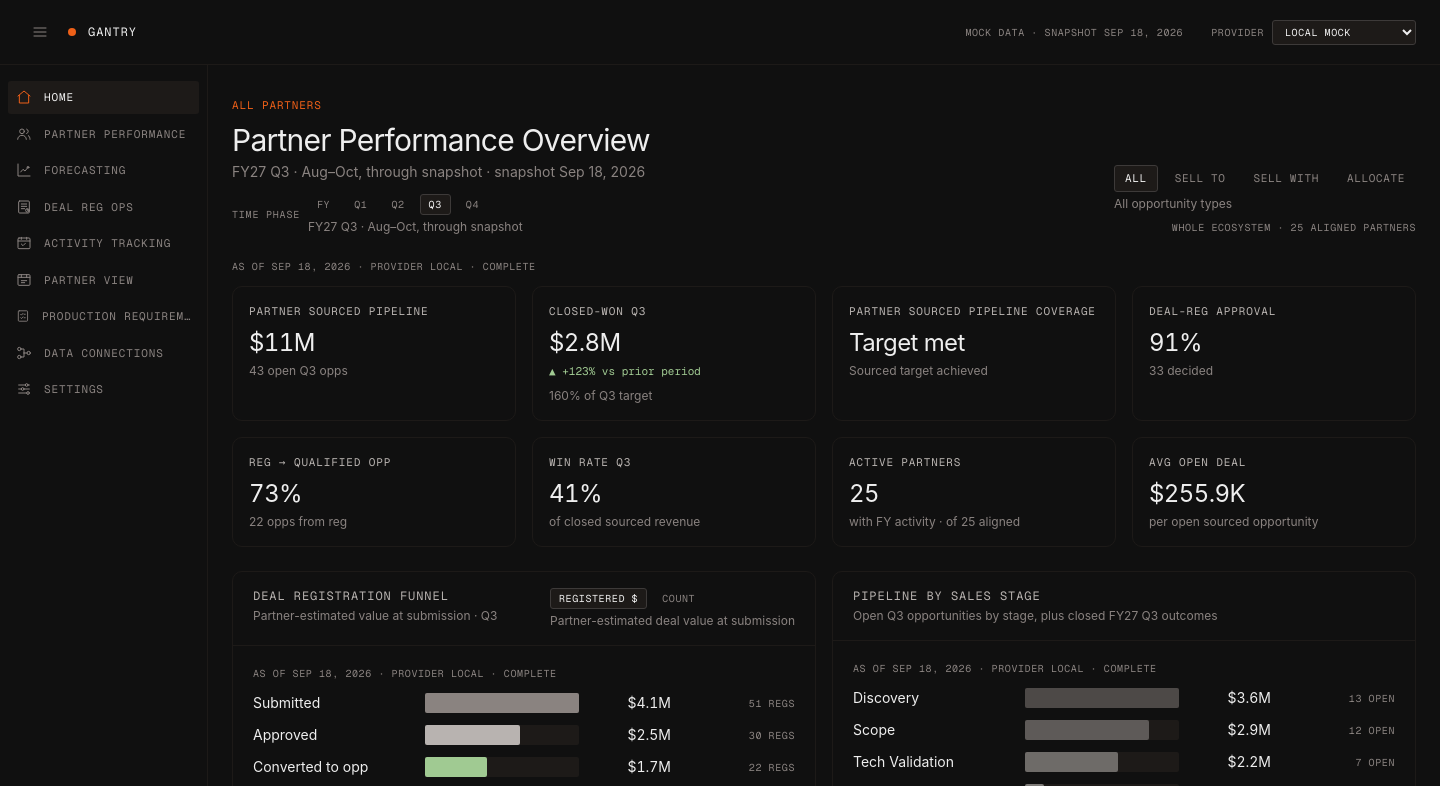
App › swaps the provider behind the seam from the header
This screenshot has width=1440, height=786.
Check: the heading "Partner Performance Overview" is shown, box [232,122,650,158]
Check: the text "round trips with a 15% simulated failure rate" is not shown
Select "Simulated remote" in the dropdown named "Data provider" at (1344,32), box [1272,20,1416,44]
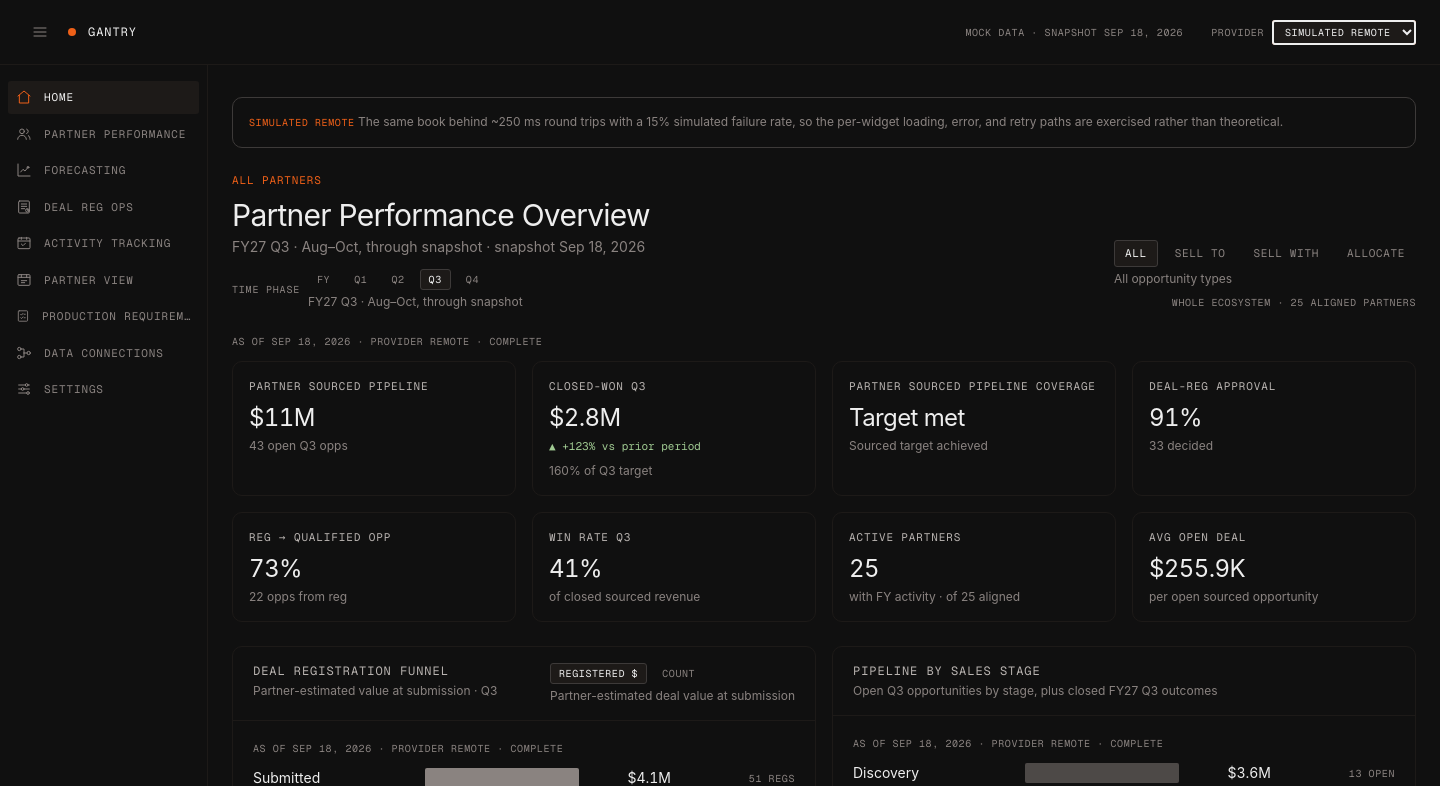
Check: the heading "Partner Performance Overview" is shown, box [232,196,650,232]
Check: the text "round trips with a 15% simulated failure rate" is shown, box [358,114,1283,129]
Select "Local mock" in the dropdown named "Data provider" at (1344,32), box [1272,20,1416,44]
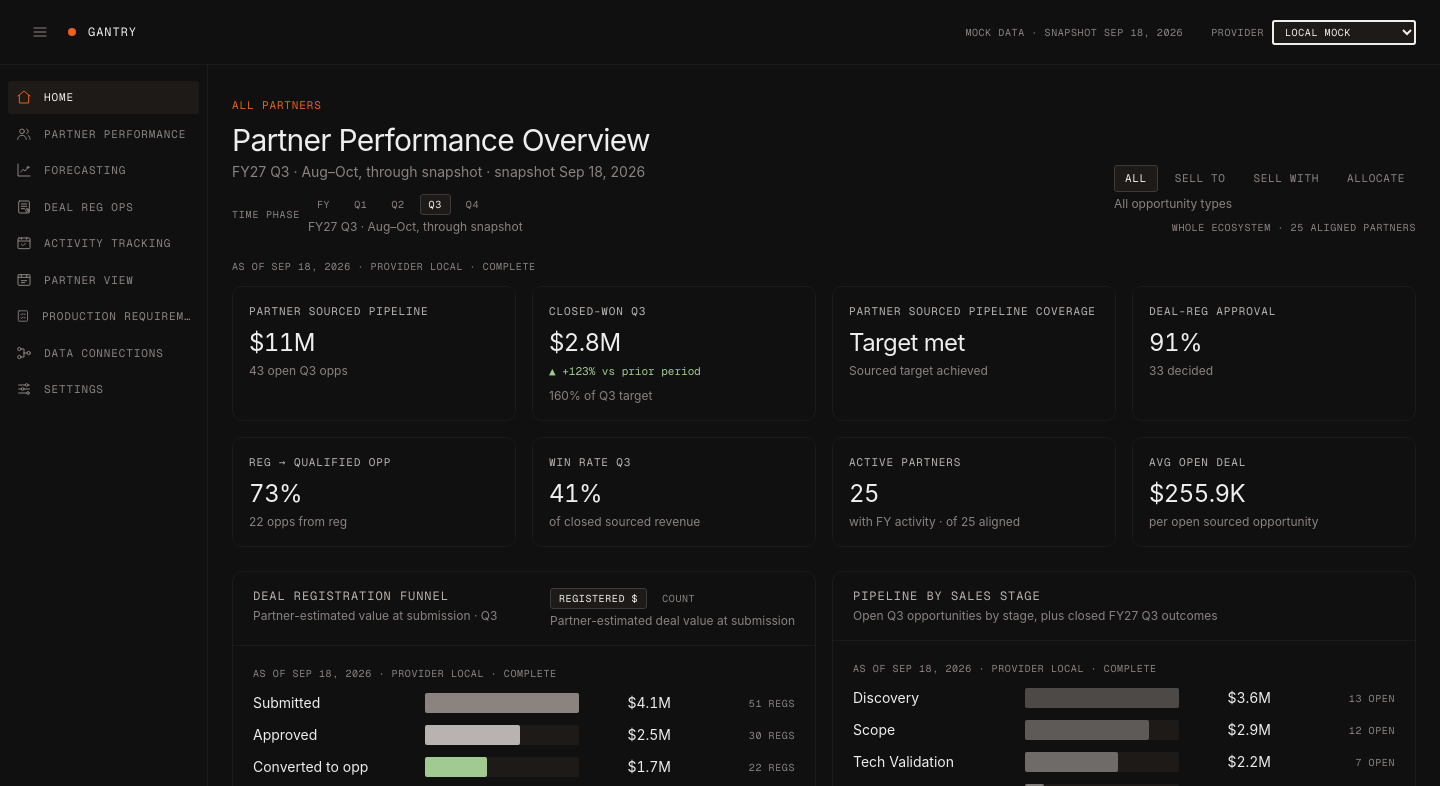
Check: the text "round trips with a 15% simulated failure rate" is gone
